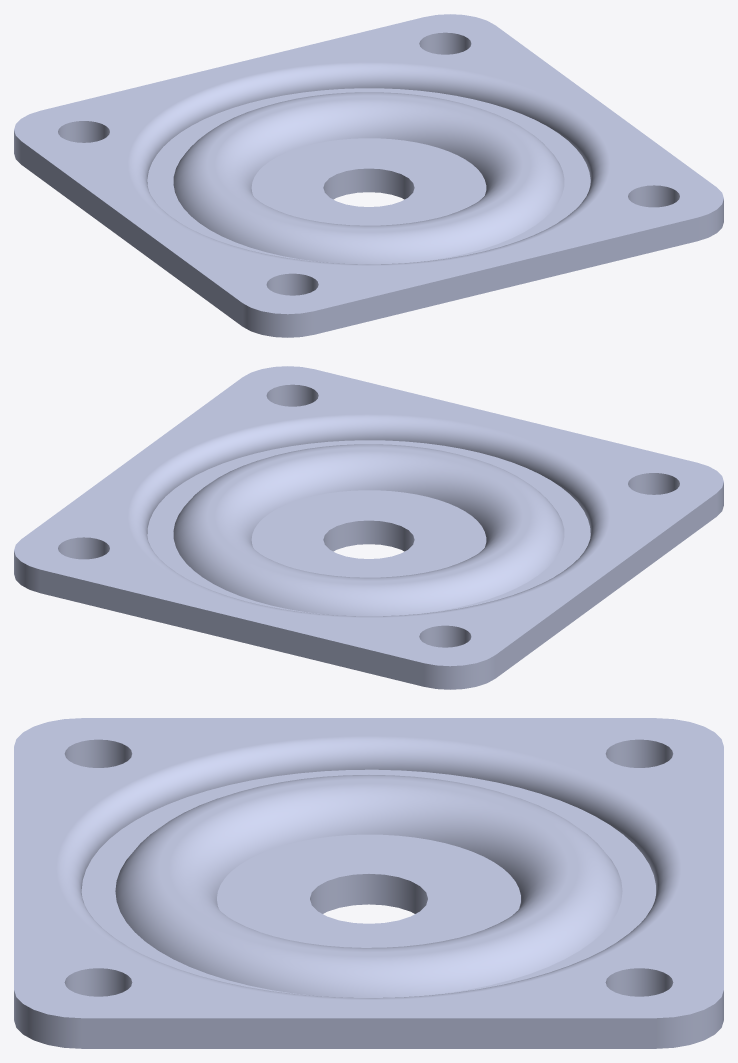
The model's file is rodizio pc1.dae.
3 renders of one model, top to bottom at view 1: azimuth 30°, elevation 25°; view 2: azimuth 150°, elevation 25°; view 3: azimuth 270°, elevation 25°, orthographic. The views are drawn at different scales.
Visible parts, largest first — view 1: node_798a2fda_a9e8_4131_94c4_69fe8c814295_mesh0; view 2: node_798a2fda_a9e8_4131_94c4_69fe8c814295_mesh0; view 3: node_798a2fda_a9e8_4131_94c4_69fe8c814295_mesh0.
Boxes of the visible parts, x1=… form: node_798a2fda_a9e8_4131_94c4_69fe8c814295_mesh0: x1=14, y1=14, x2=723, y2=337; node_798a2fda_a9e8_4131_94c4_69fe8c814295_mesh0: x1=14, y1=366, x2=723, y2=689; node_798a2fda_a9e8_4131_94c4_69fe8c814295_mesh0: x1=14, y1=718, x2=723, y2=1048.
Bounding box in the file's own units: 0.042 × 0.004 × 0.042.
